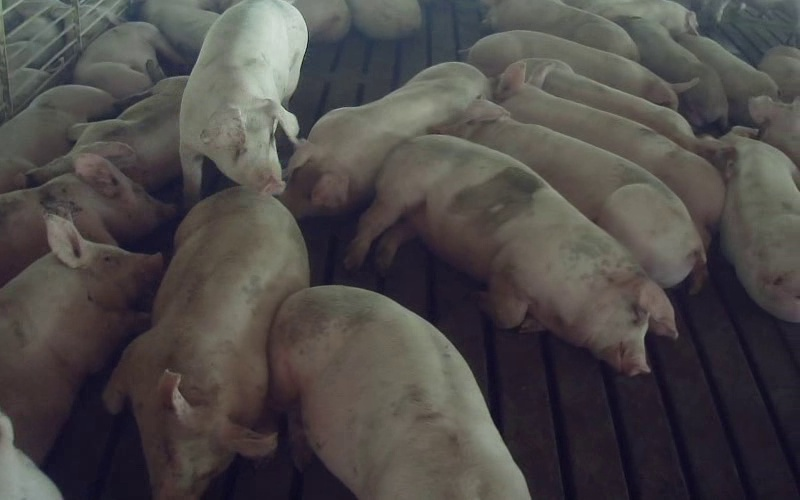pig: (348, 135, 676, 374), (104, 187, 308, 499), (441, 100, 704, 285), (495, 62, 725, 245), (0, 215, 162, 462), (281, 62, 489, 217), (180, 2, 307, 205), (0, 154, 175, 286), (522, 58, 721, 158), (27, 76, 187, 191), (468, 30, 695, 108), (720, 126, 799, 321), (615, 17, 727, 129), (0, 86, 114, 192), (484, 0, 638, 60), (677, 33, 777, 125), (74, 22, 183, 98)
